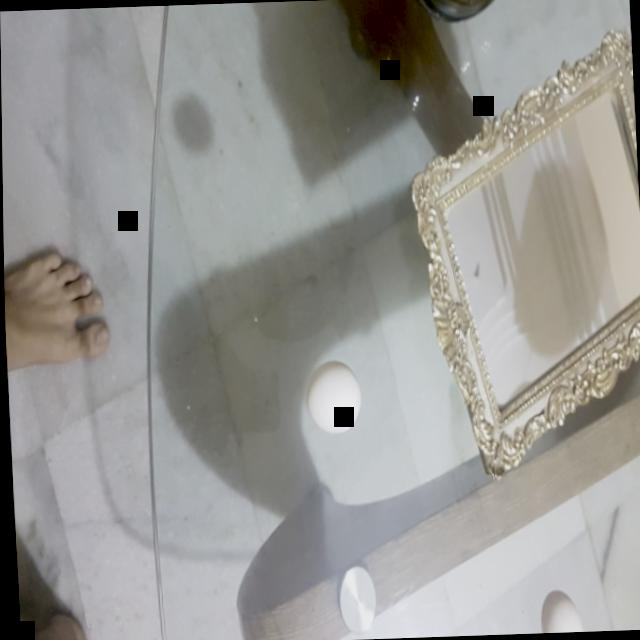eggs: (292, 357, 368, 434), (534, 585, 587, 633)
